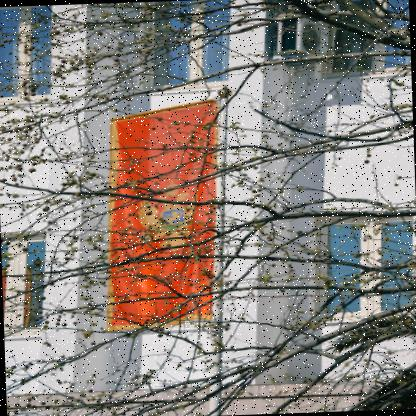me: (97, 99, 232, 331)
